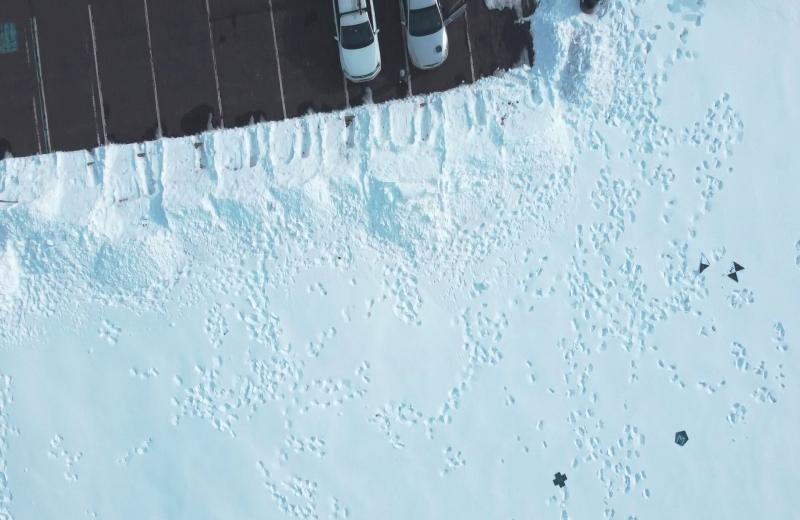Cross: (551, 471, 570, 490)
Pentagon: (674, 429, 690, 448)
